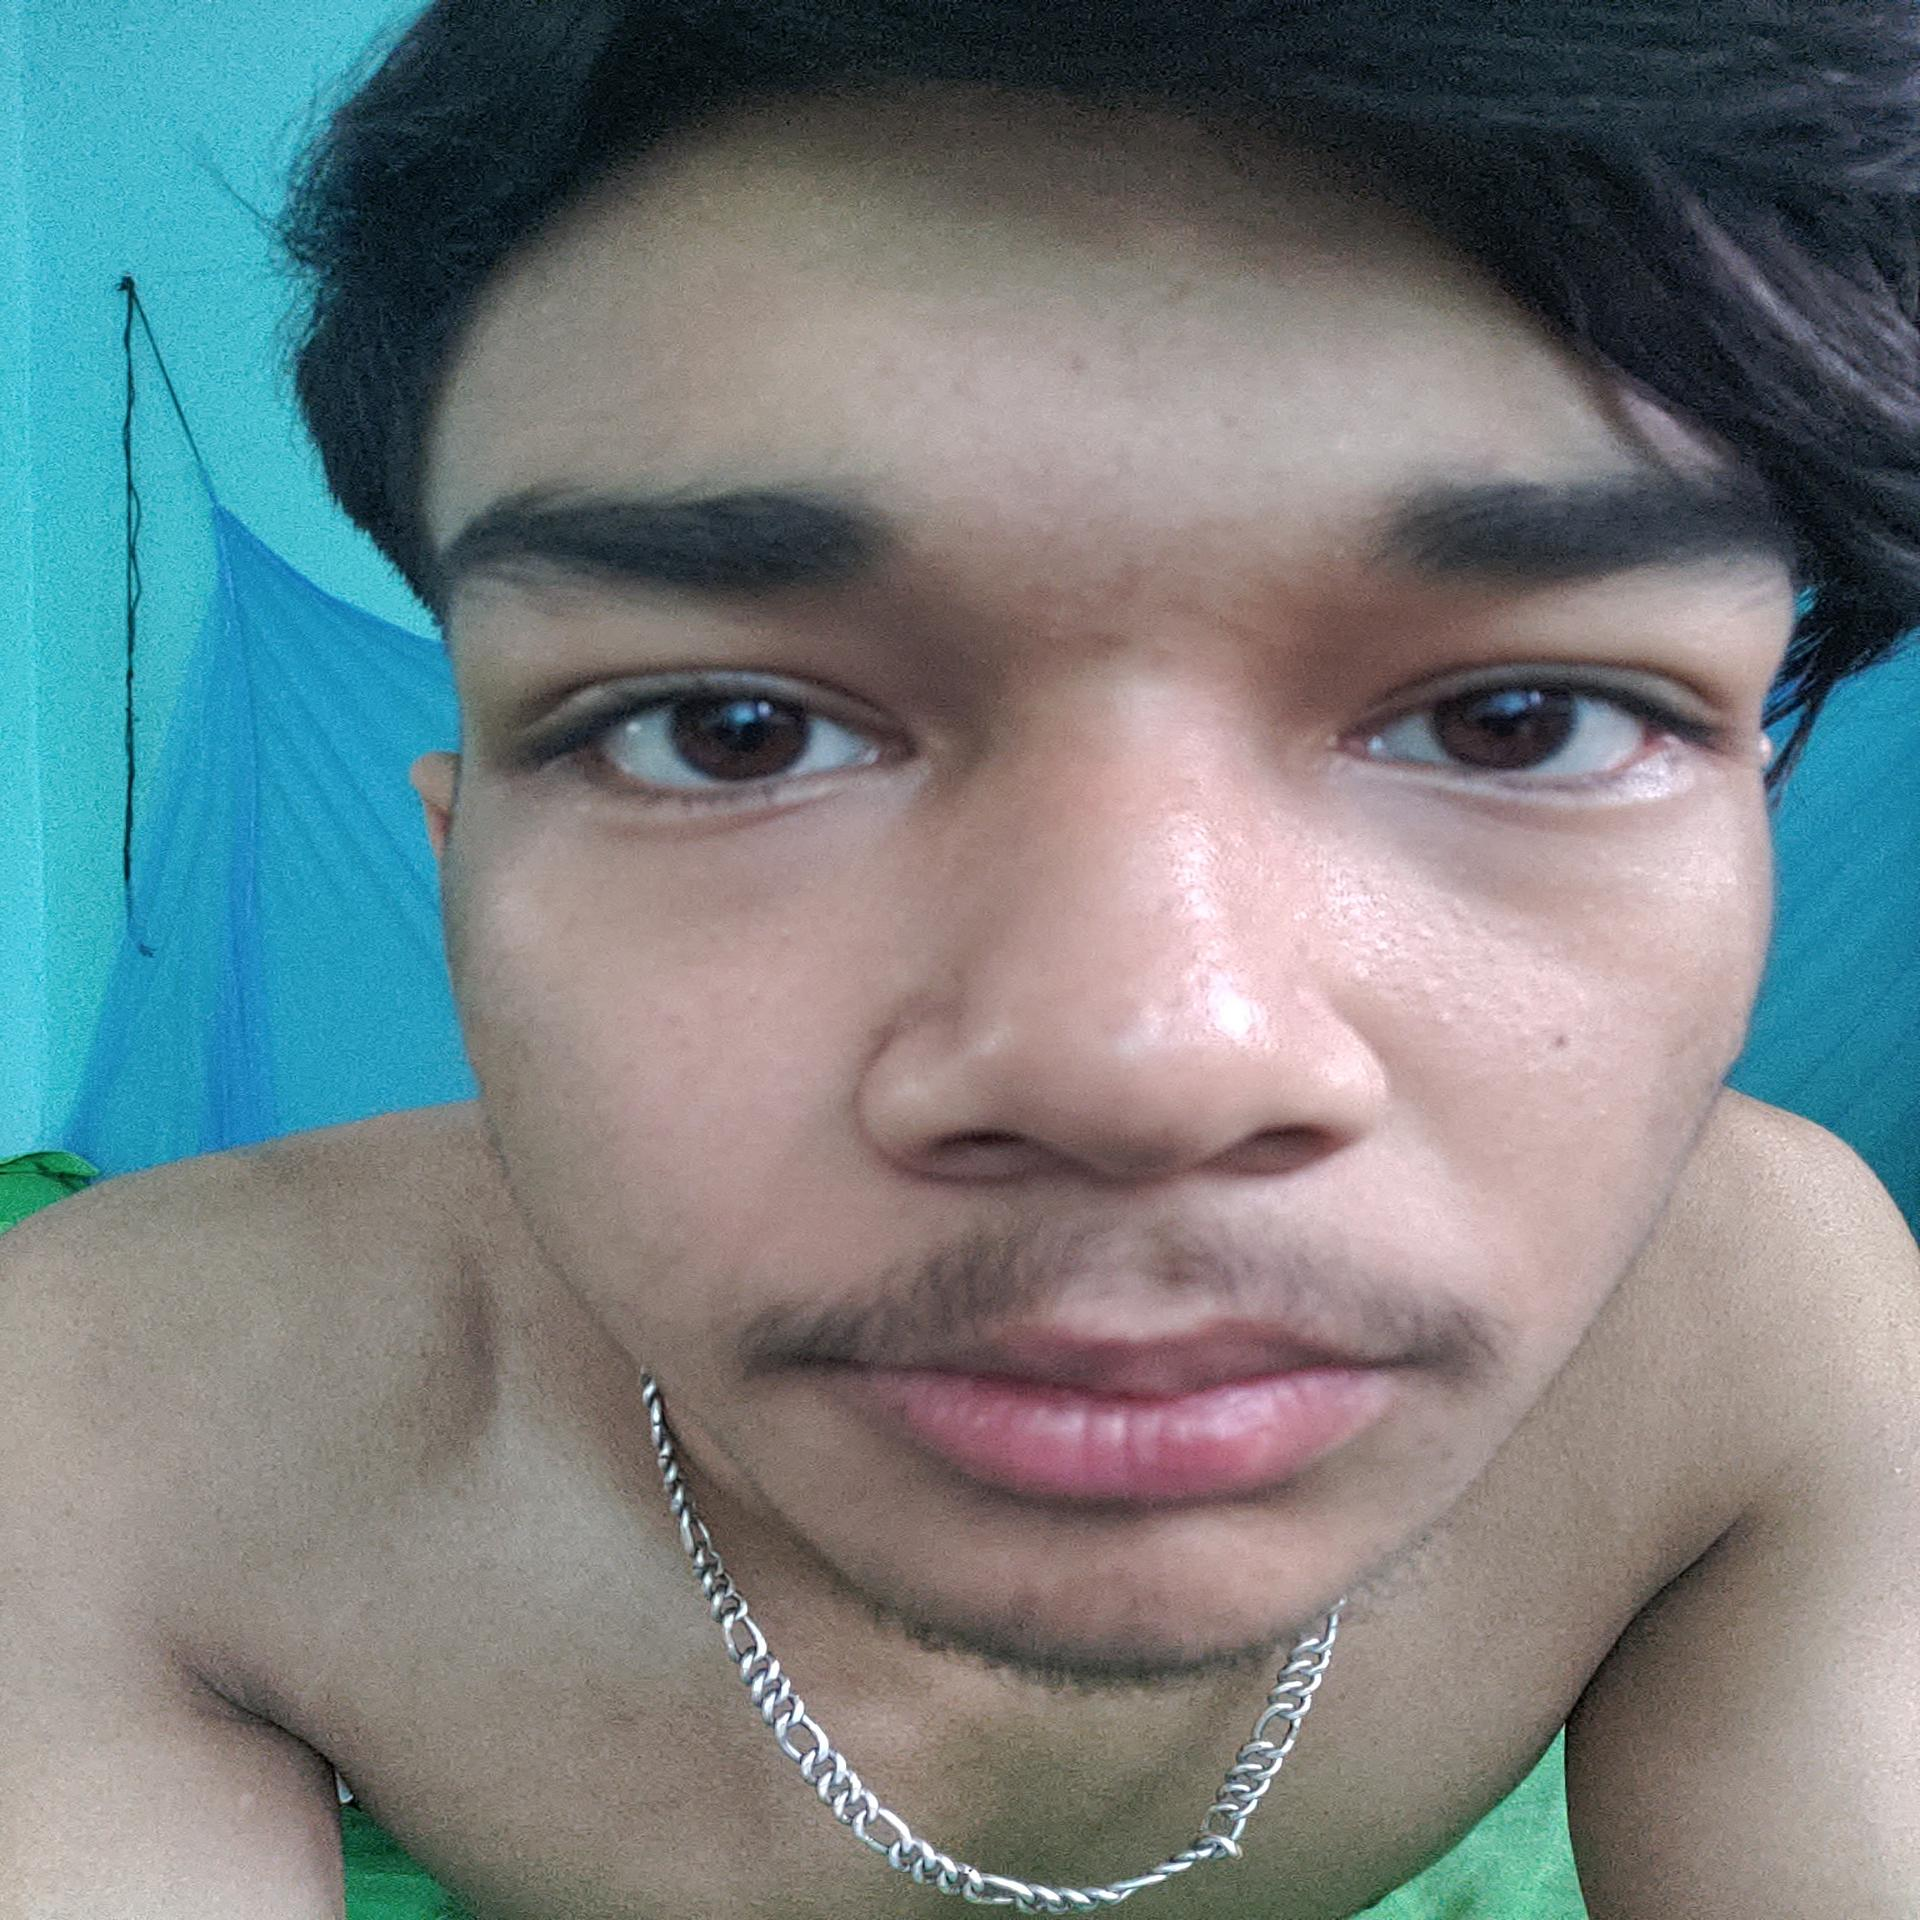Acne: (1039, 624, 1143, 663), (1015, 570, 1060, 601)
Blackhead: (1303, 858, 1445, 985)
